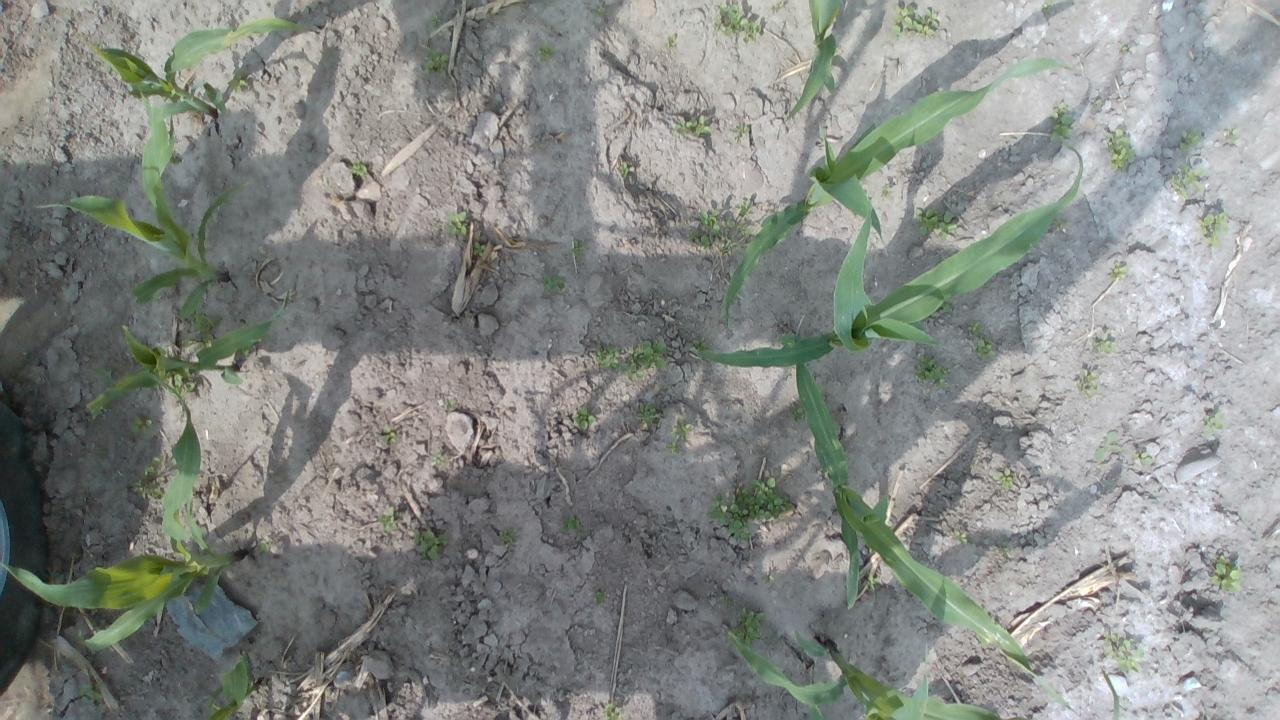Maize: (794, 366, 1078, 713), (719, 61, 1070, 328), (690, 142, 1084, 368), (0, 376, 237, 654), (86, 13, 316, 210), (722, 626, 1126, 720), (32, 167, 262, 314), (86, 293, 292, 418), (782, 0, 846, 123), (205, 652, 262, 720)
Weeds: (707, 476, 795, 545), (595, 338, 669, 379), (713, 1, 764, 45), (1100, 626, 1146, 674), (890, 3, 941, 38), (914, 206, 958, 243), (729, 607, 766, 650), (182, 307, 222, 346), (1101, 128, 1135, 171), (689, 209, 720, 252), (412, 526, 448, 562), (1049, 100, 1075, 148), (1171, 163, 1205, 199), (914, 354, 948, 390), (1196, 210, 1229, 247), (1212, 554, 1242, 594), (721, 218, 750, 254), (1094, 428, 1123, 461), (421, 43, 448, 78), (130, 478, 166, 503), (674, 114, 712, 136), (167, 372, 196, 400), (1074, 368, 1100, 398), (541, 272, 571, 297), (128, 415, 159, 437), (560, 514, 586, 540), (636, 402, 661, 429), (572, 406, 596, 432), (1092, 332, 1117, 356), (668, 418, 693, 441), (1202, 409, 1224, 435), (376, 506, 398, 532), (535, 40, 558, 64), (226, 70, 248, 94), (976, 336, 996, 362), (78, 683, 104, 702), (446, 212, 468, 234), (1179, 127, 1200, 150), (600, 701, 624, 720), (992, 468, 1013, 488), (143, 456, 164, 476), (497, 528, 520, 545), (736, 198, 754, 218), (570, 240, 586, 262), (1109, 262, 1128, 279), (382, 426, 398, 446), (1222, 126, 1239, 144), (350, 158, 367, 176), (994, 540, 1012, 557), (1132, 451, 1152, 466), (1052, 215, 1070, 231), (953, 528, 969, 546), (864, 574, 880, 592), (789, 402, 804, 421), (664, 441, 681, 456), (427, 12, 441, 30), (731, 122, 748, 136), (665, 33, 678, 51), (431, 448, 444, 466), (966, 320, 982, 334), (592, 590, 606, 606), (694, 337, 712, 349), (473, 243, 487, 258), (716, 595, 732, 607), (762, 574, 778, 586), (880, 184, 893, 198), (940, 299, 953, 313), (259, 539, 271, 553), (620, 160, 629, 178), (444, 398, 458, 409), (1042, 0, 1054, 12), (242, 346, 254, 358), (96, 406, 108, 417), (596, 4, 606, 16), (1118, 42, 1128, 52), (1092, 100, 1102, 110), (773, 1, 784, 10)
